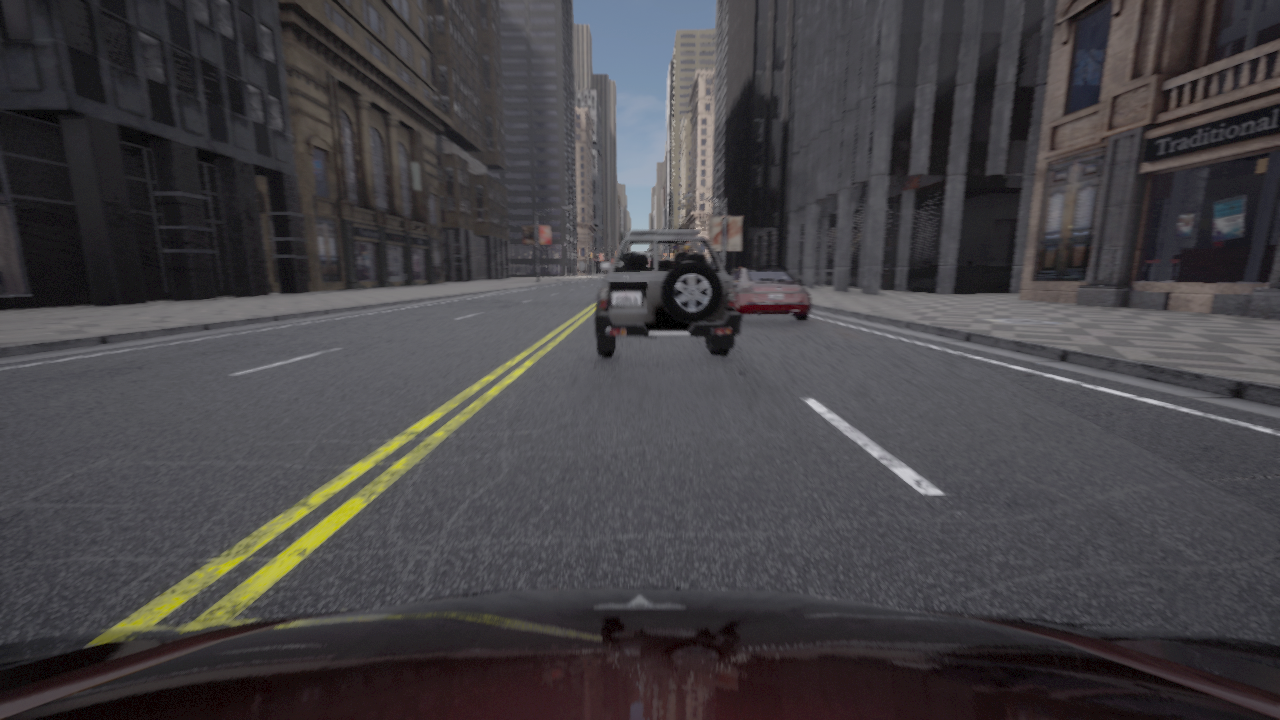cyclist: (0, 588, 1279, 719), (595, 231, 739, 357), (729, 267, 812, 321)
